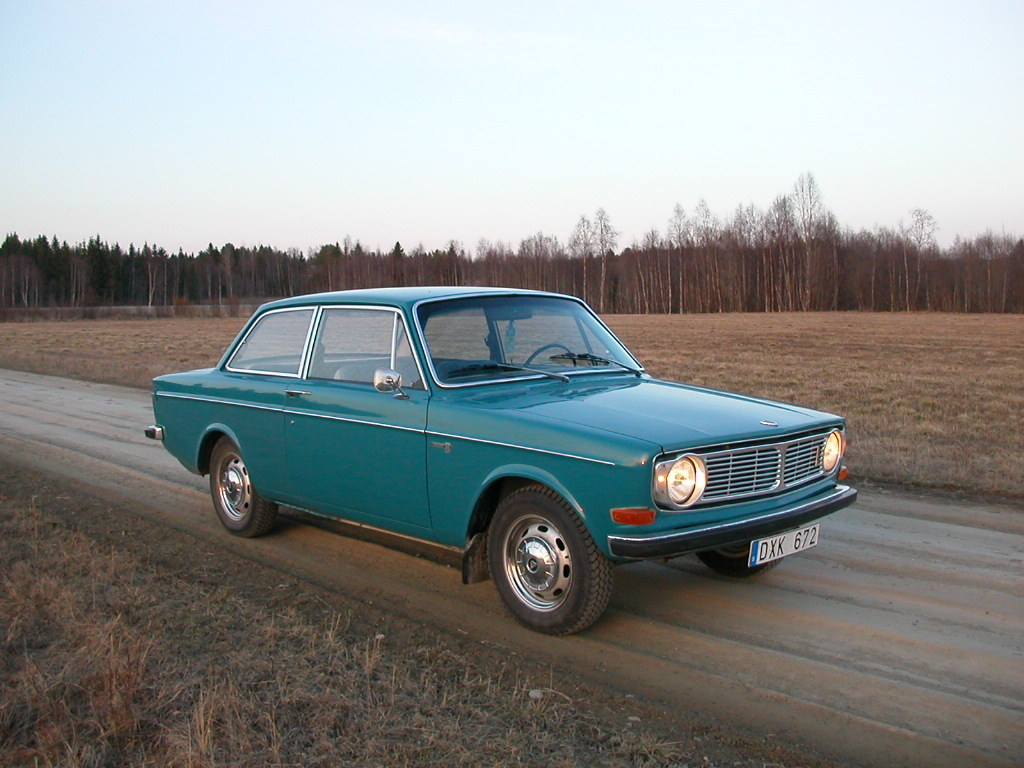Car: (143, 285, 857, 636)
